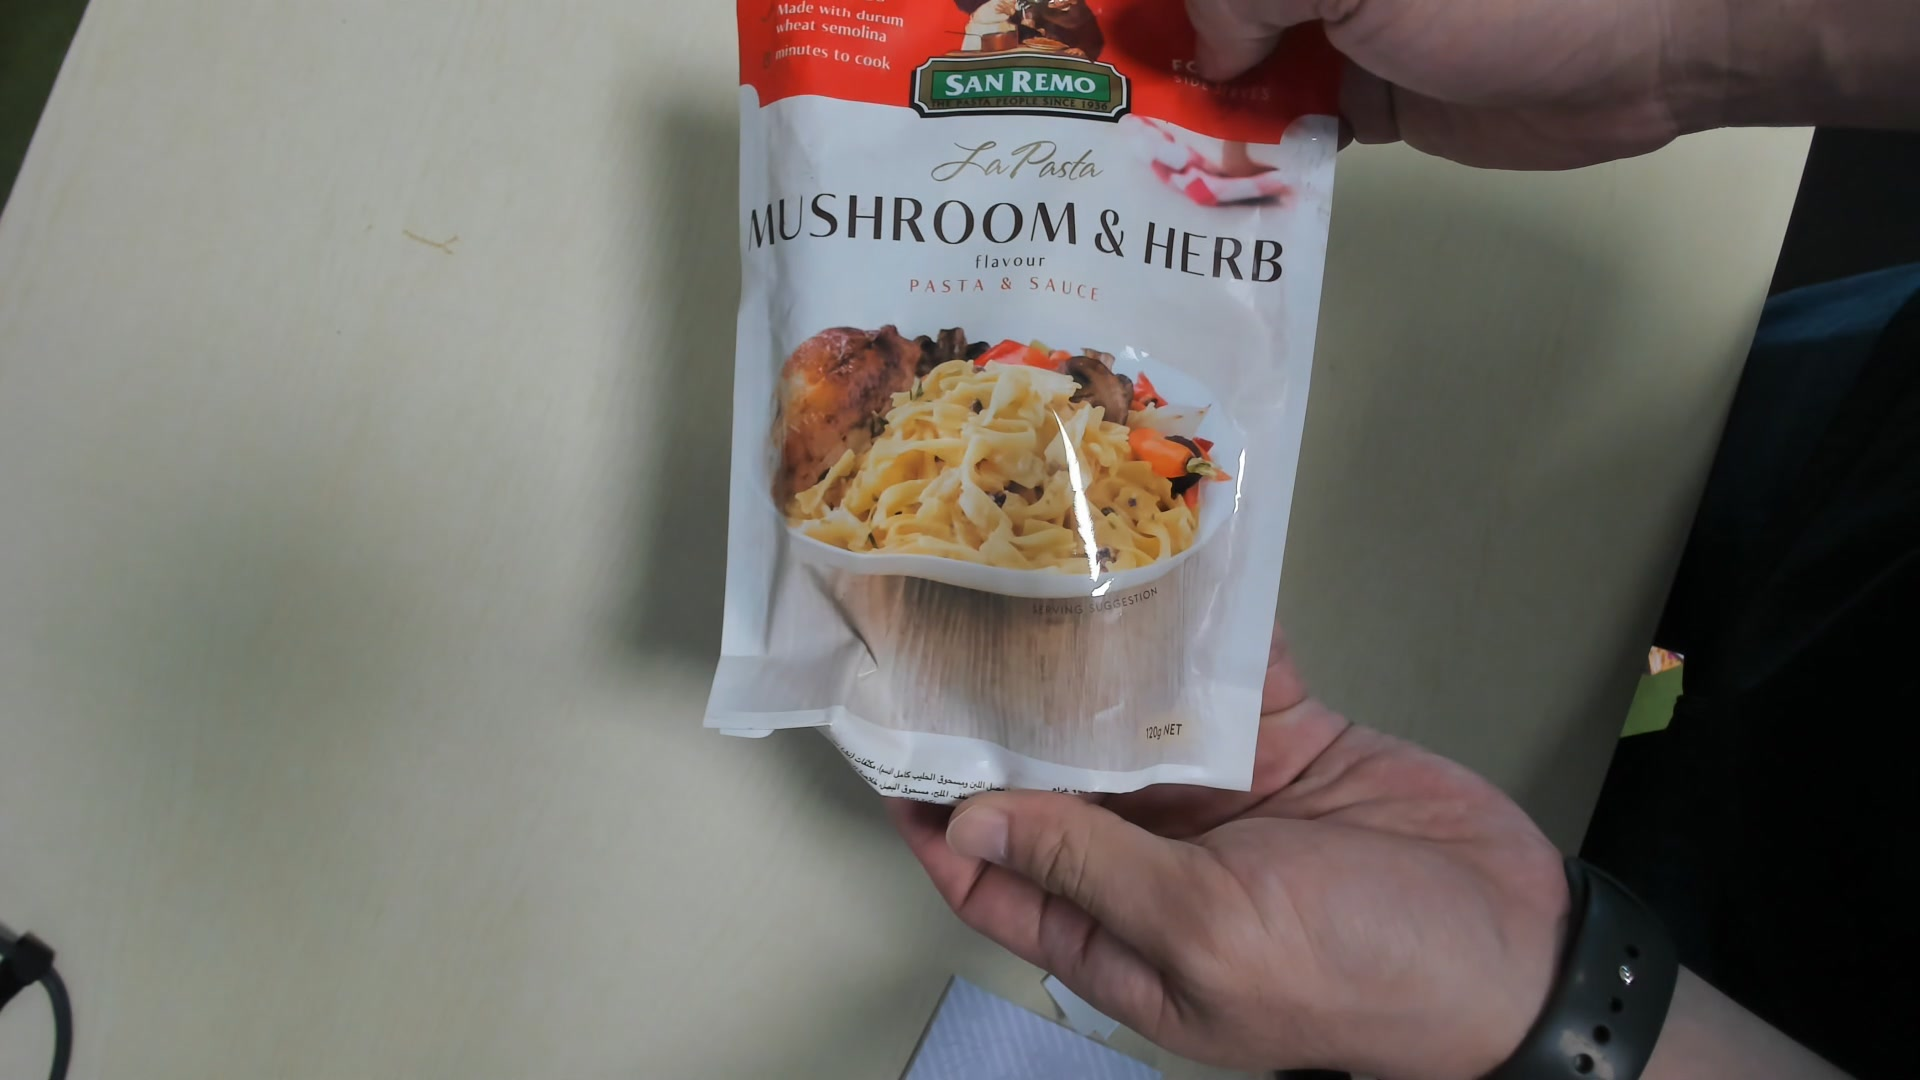InstantMeals_100-199g_NonHalal_Healthy: (719, 1, 1331, 785)
